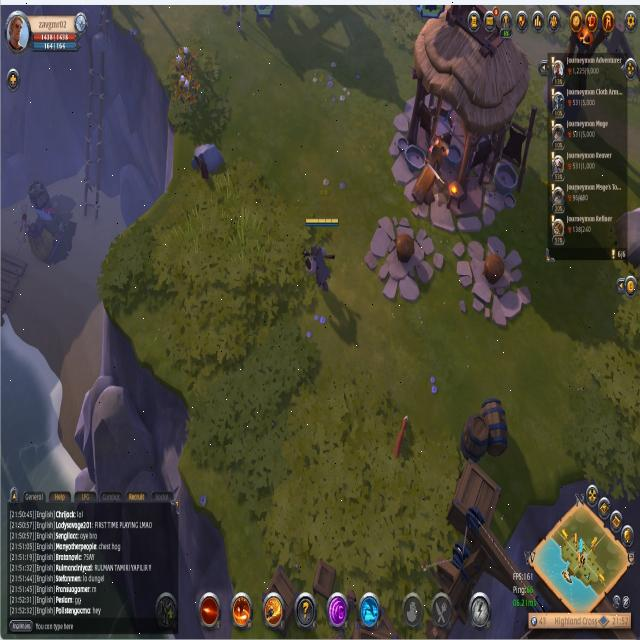stone: (188, 139, 226, 181)
